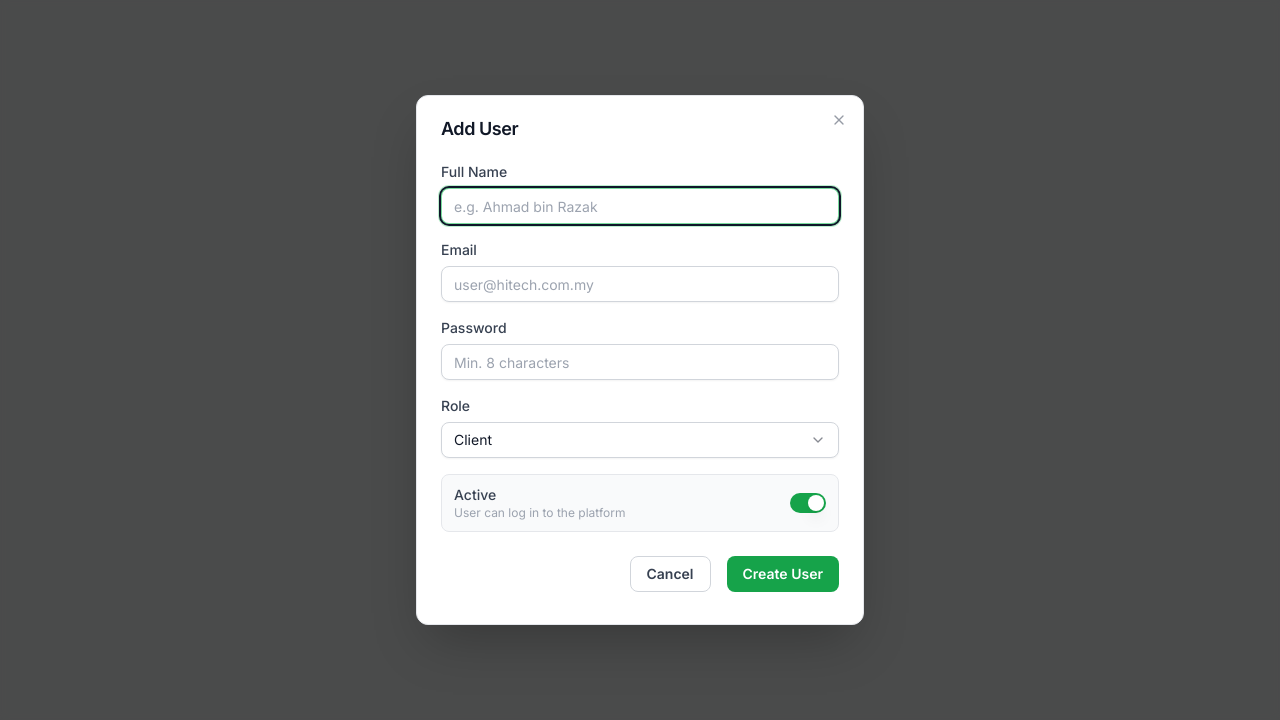
Test: Client-side validation › shows validation error and does not submit when Email is invalid
The image size is (1280, 720).
# Fill in full name so it doesn't block submission
In the field labelled "Full Name": (640, 206) [441,188,839,224], type "Test User"
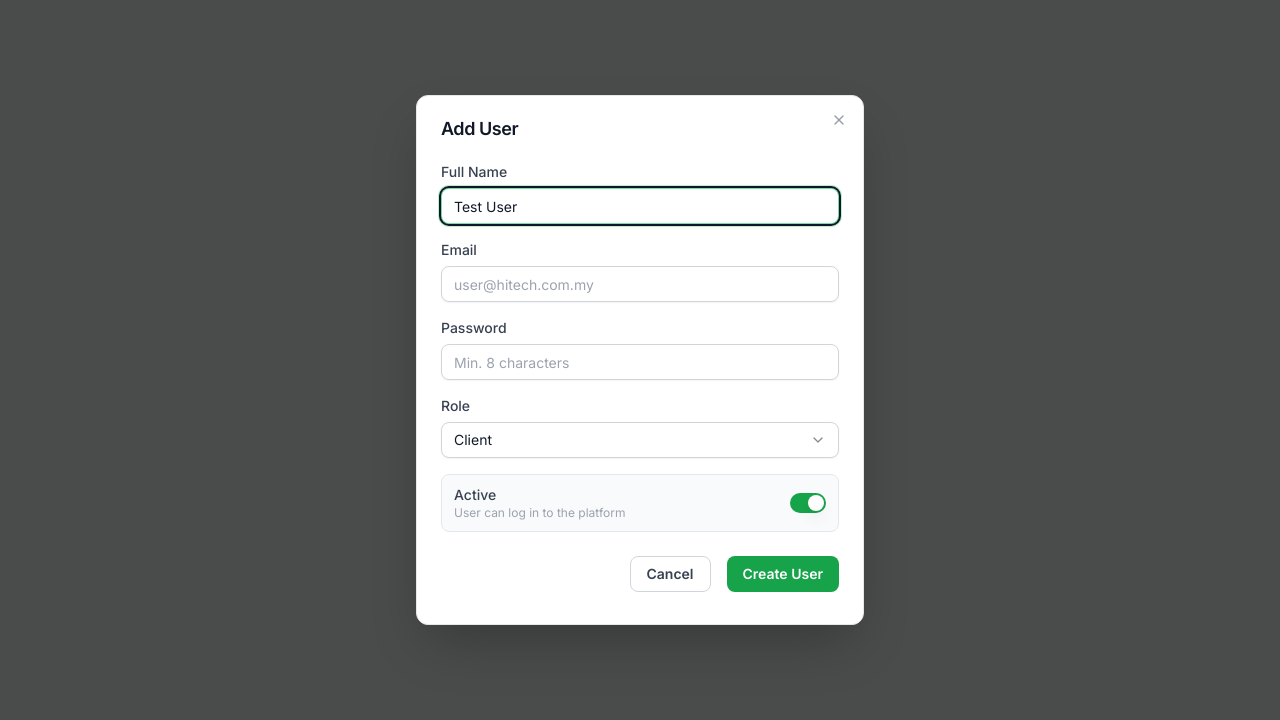
# Fill in a valid password so it doesn't block submission
In the password field labelled "Password": (640, 362) [441,344,839,380], type "password123"
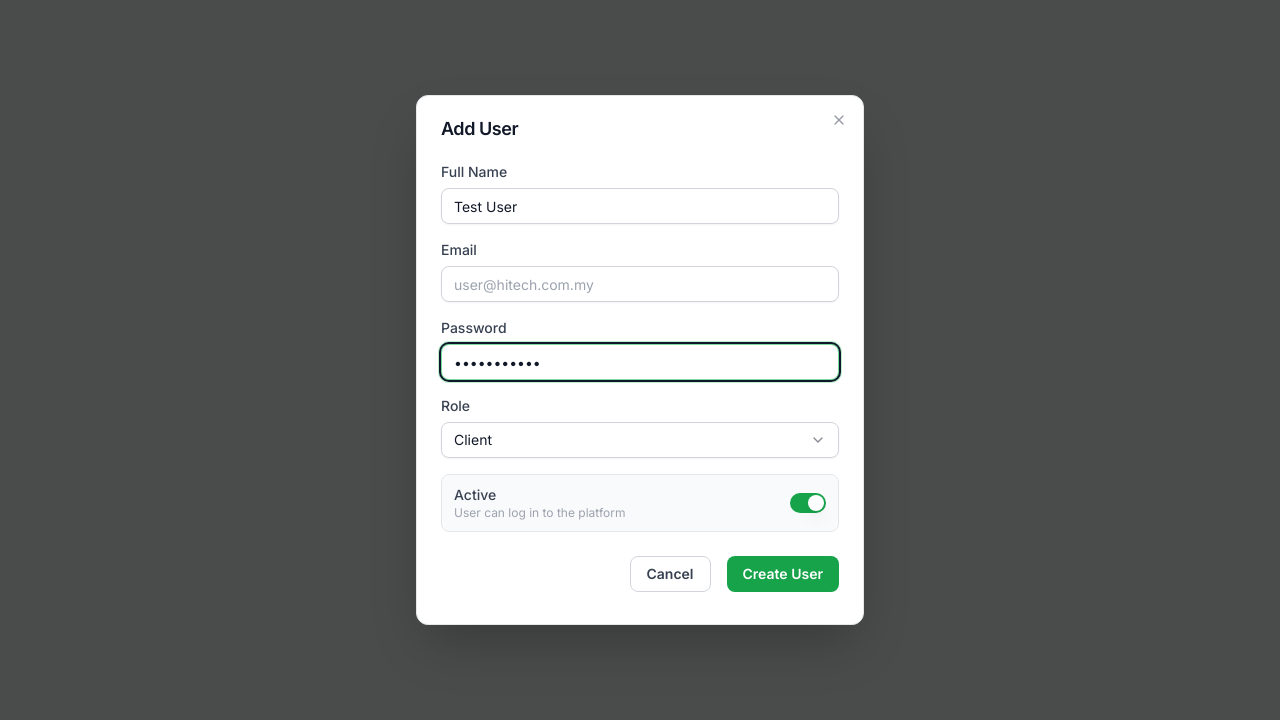
Click the button "Create User": (783, 574) [726,556,839,592]
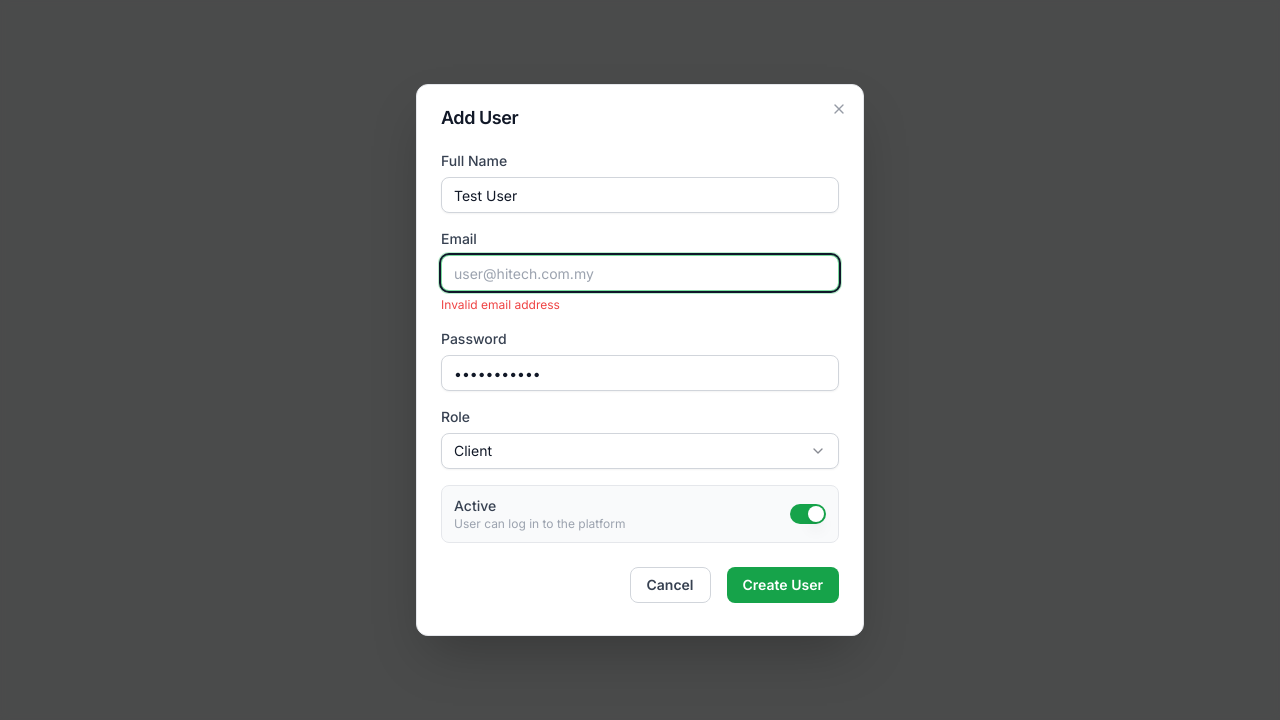
Result: the text "Invalid email address" is shown at [441,297,560,312]
